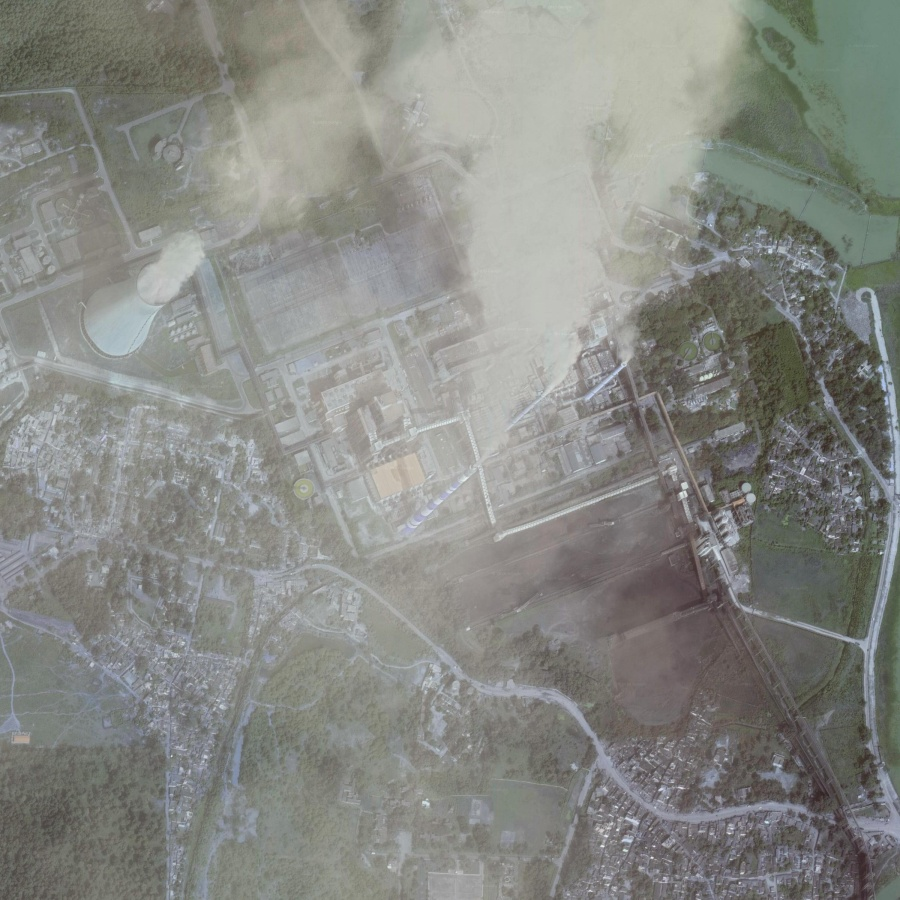PowerPlant: (364, 284, 654, 565), (73, 191, 228, 402)
